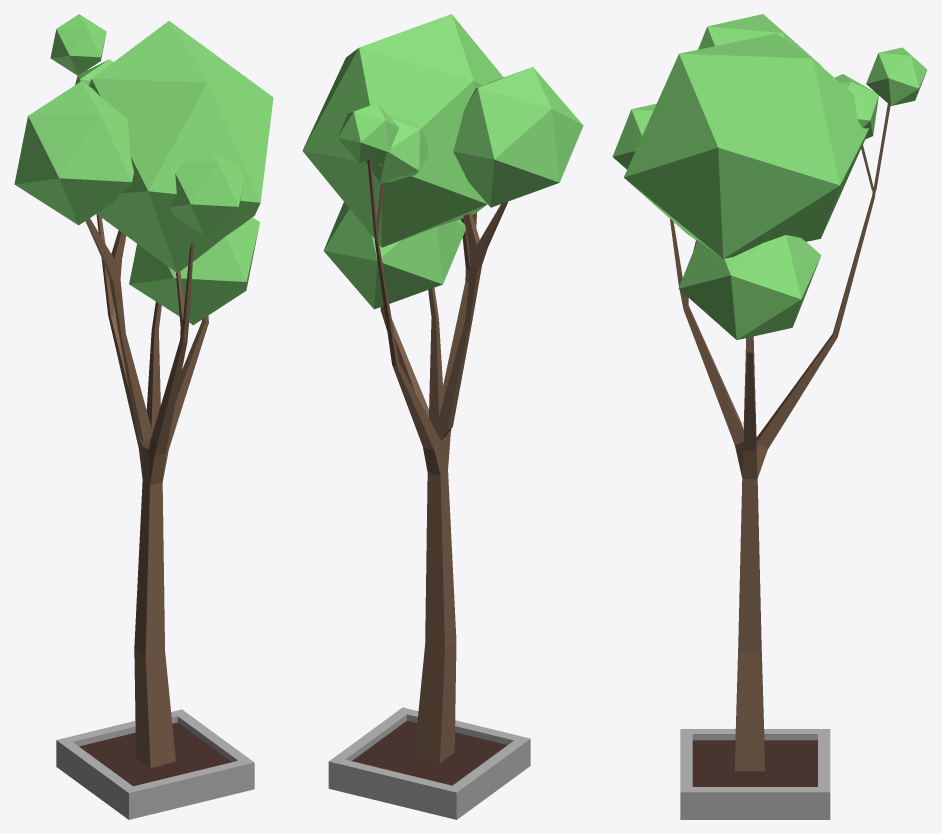
File: Street Tree 2.fbx
3 renders of one model, left to right at view 1: azimuth 30°, elevation 25°; view 2: azimuth 150°, elevation 25°; view 3: azimuth 270°, elevation 25°, orthographic. The views are drawn at different scales.
Parts seen in each view (by area): view 1: Street Tree 2; view 2: Street Tree 2; view 3: Street Tree 2.
Part boxes in pixels (bbox=[...]): Street Tree 2: bbox=[14, 14, 273, 819]; Street Tree 2: bbox=[302, 14, 583, 819]; Street Tree 2: bbox=[612, 14, 927, 819].
Size of the model in its own units: 187 by 553 by 210.
Materials: 1 (1 with a texture image).
